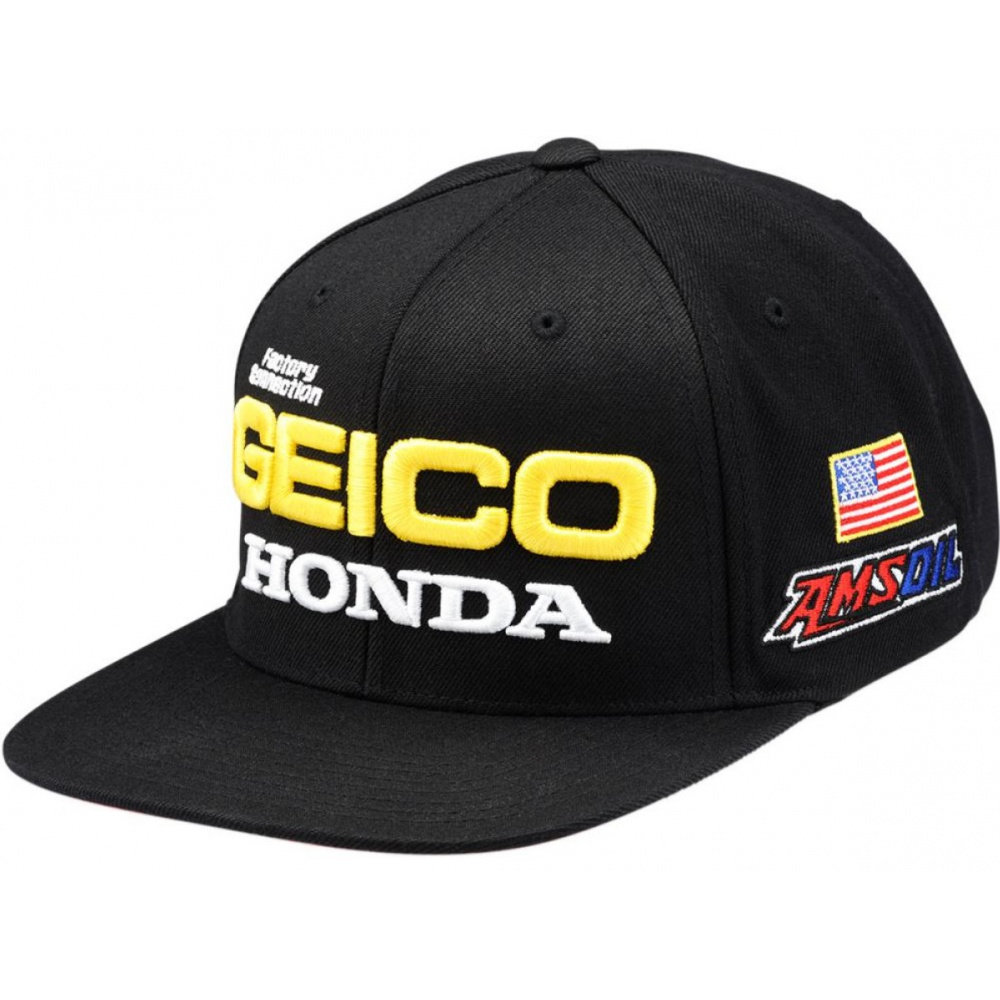Geico: (227, 385, 658, 566)
